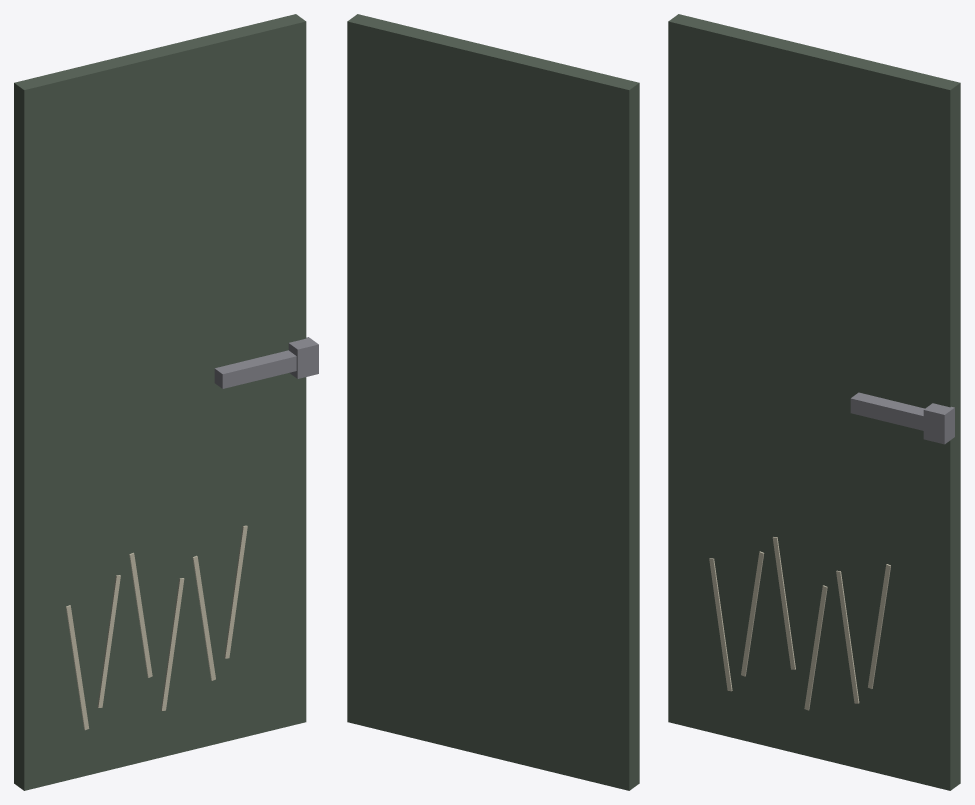
The model's file is bolted door.glb.
3 renders of one model, left to right at view 1: azimuth 30°, elevation 25°; view 2: azimuth 150°, elevation 25°; view 3: azimuth 330°, elevation 25°, orthographic.
Visible parts, largest first — view 1: bolted door; view 2: bolted door; view 3: bolted door.
Boxes of the visible parts, x1=… form: bolted door: x1=14, y1=14, x2=318, y2=790; bolted door: x1=347, y1=14, x2=639, y2=790; bolted door: x1=668, y1=14, x2=960, y2=790.
Bounding box in the file's own units: 0.81 × 1.9 × 0.095.
